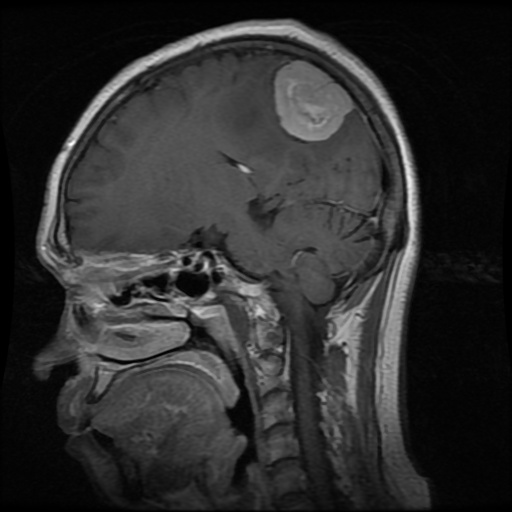meningioma: (275, 60, 353, 141)
